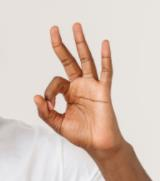left: (31, 21, 121, 149)
